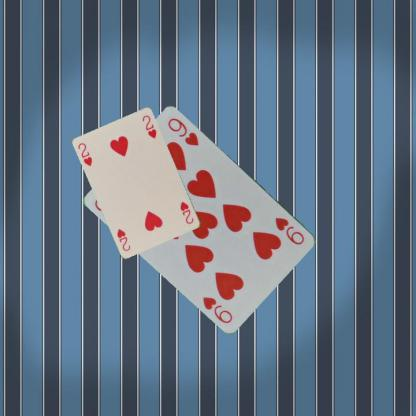2h: (76, 140, 94, 168), (178, 200, 195, 226)
9h: (273, 214, 306, 246)
